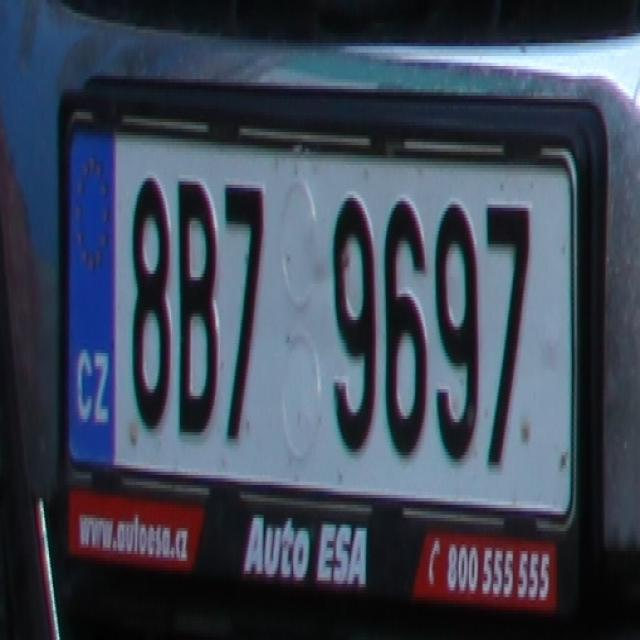6: (379, 184, 428, 472)
7: (485, 194, 533, 482), (222, 172, 266, 455)
8: (128, 172, 171, 436)
9: (432, 188, 481, 468), (328, 188, 377, 459)
B: (175, 168, 219, 439)
